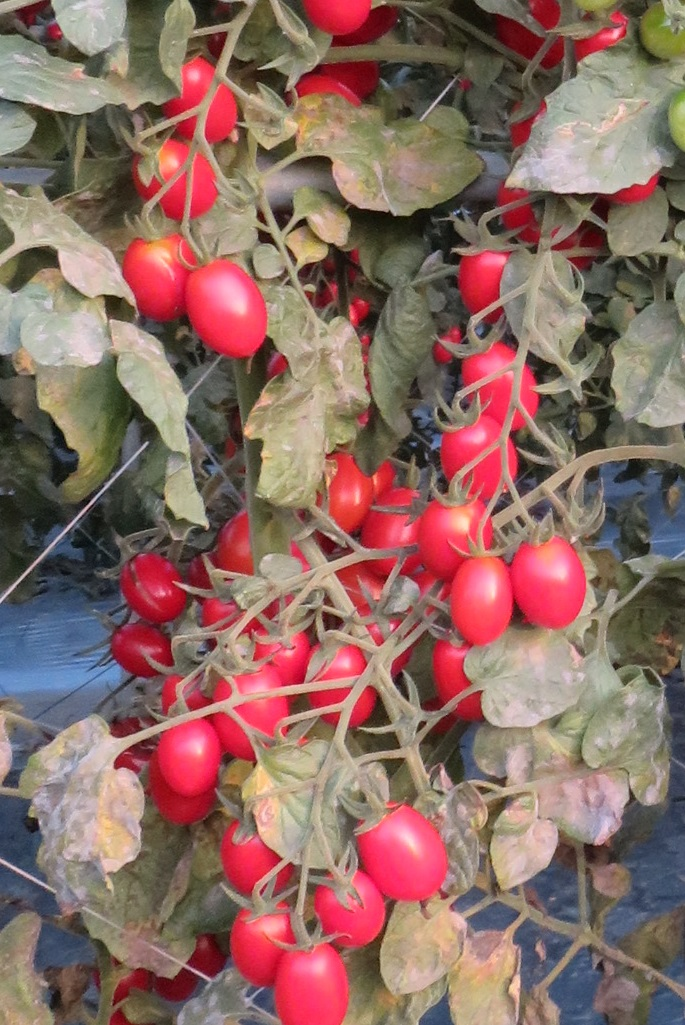red: (347, 801, 453, 899), (181, 255, 270, 365), (508, 530, 588, 634), (214, 667, 289, 760), (135, 141, 220, 221), (162, 60, 241, 143), (221, 904, 299, 986), (310, 871, 389, 950), (442, 416, 517, 498), (278, 942, 351, 1025), (420, 498, 497, 576), (449, 555, 513, 648), (122, 231, 185, 324), (154, 712, 221, 796), (468, 347, 541, 423), (113, 550, 188, 623), (215, 817, 281, 897), (104, 619, 181, 679), (320, 454, 370, 539), (458, 250, 513, 322)
